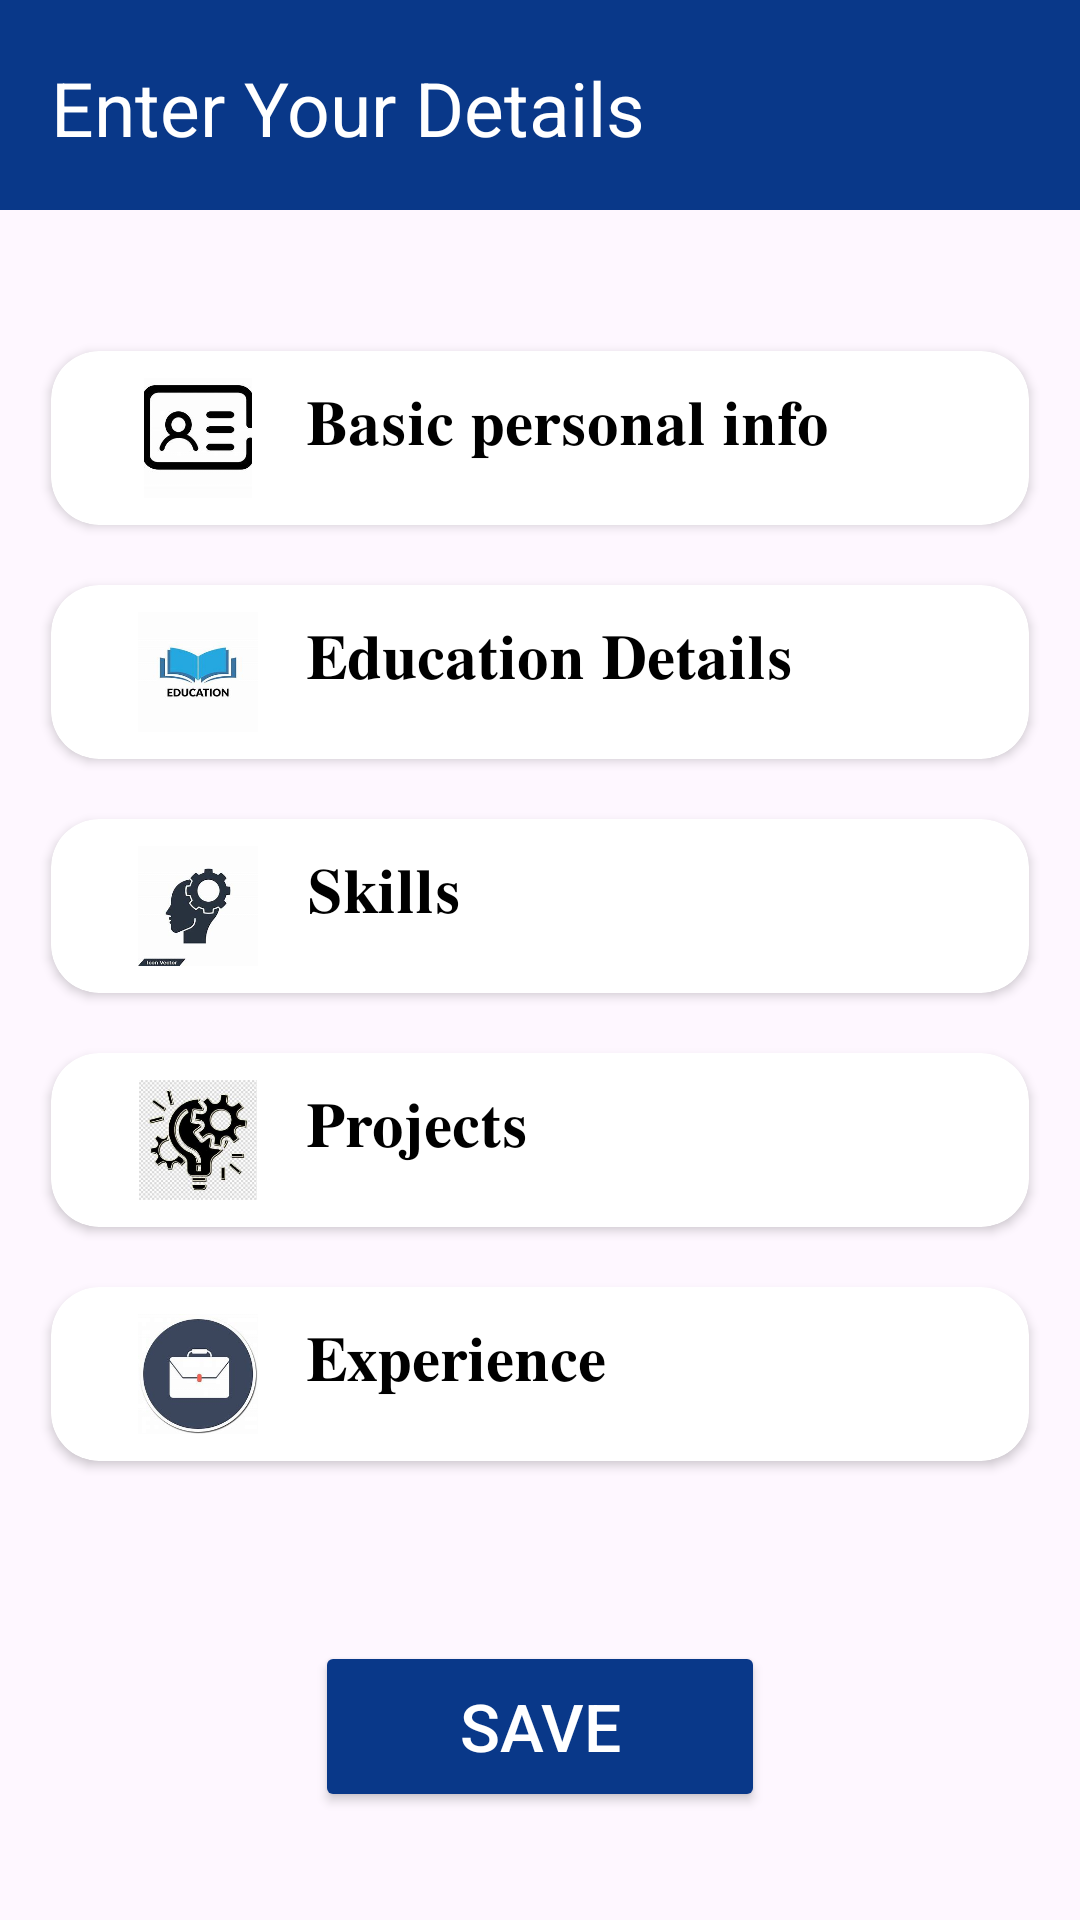

Icons on this 1080 × 1920 Android screen, each with the point to tap as (x,y):
exp: (200,1376)
skill vd: (184,917)
